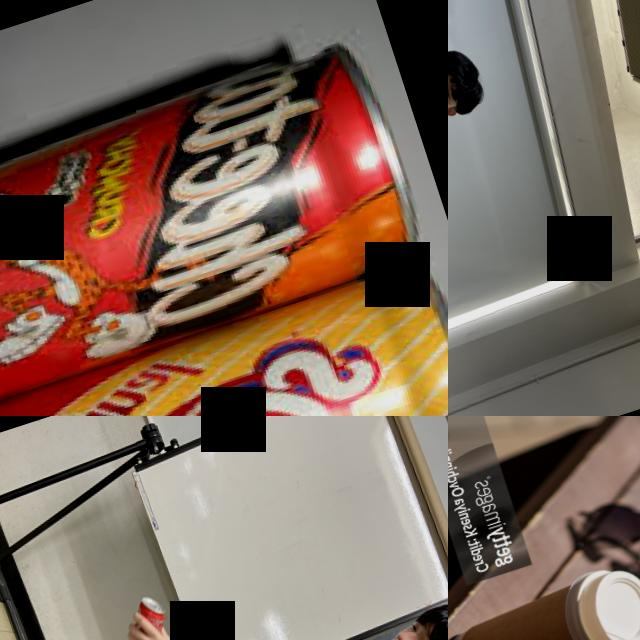can: (0, 16, 435, 416), (0, 255, 448, 416), (105, 588, 184, 640)
cup: (448, 553, 640, 640)
